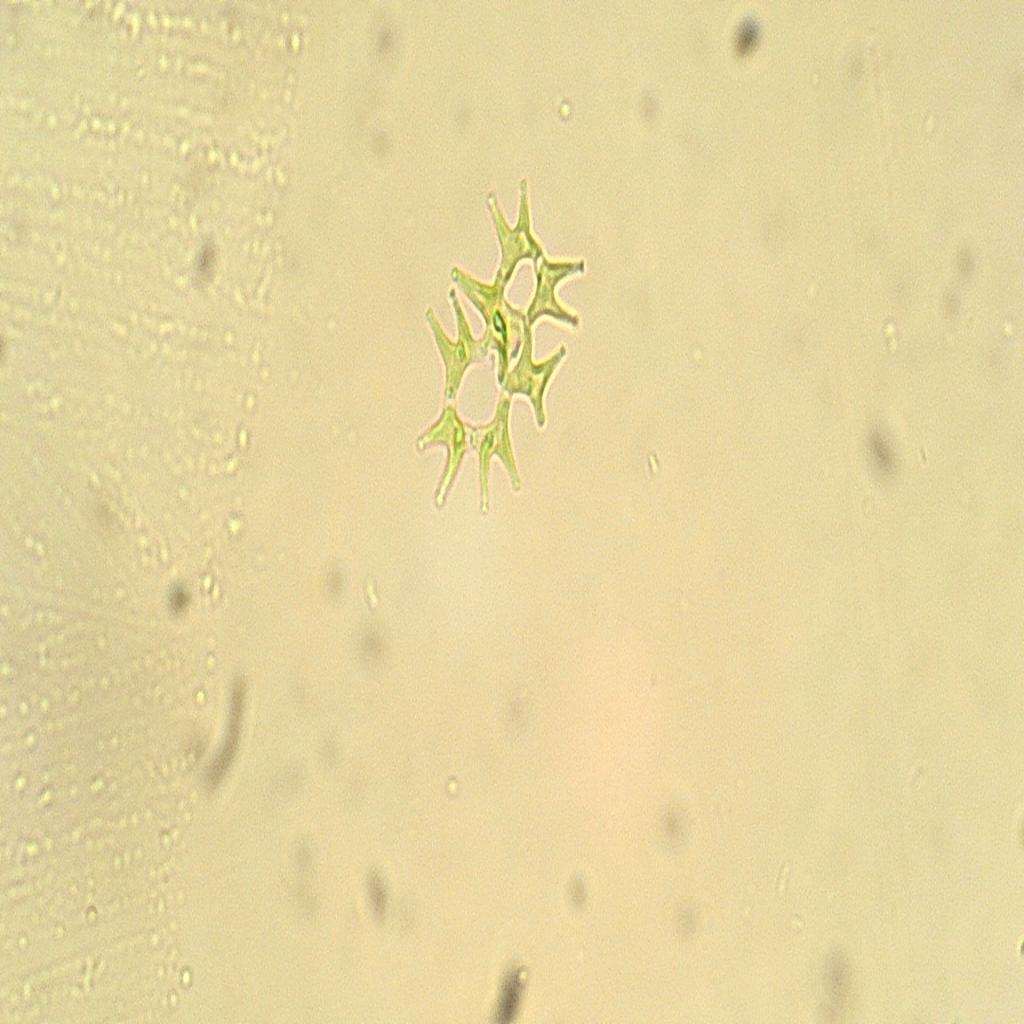Pediastrum_1TH: (410, 147, 598, 543)
